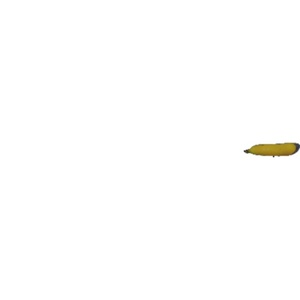banana: (243, 139, 299, 159)
